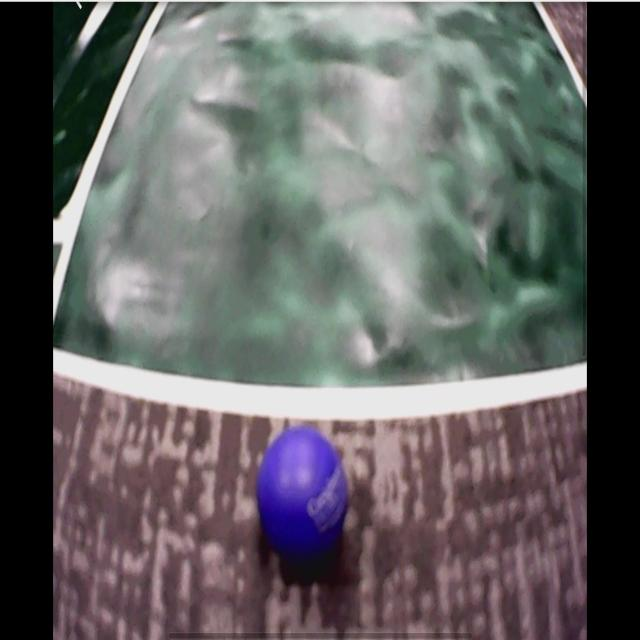ball: (258, 429, 350, 556)
